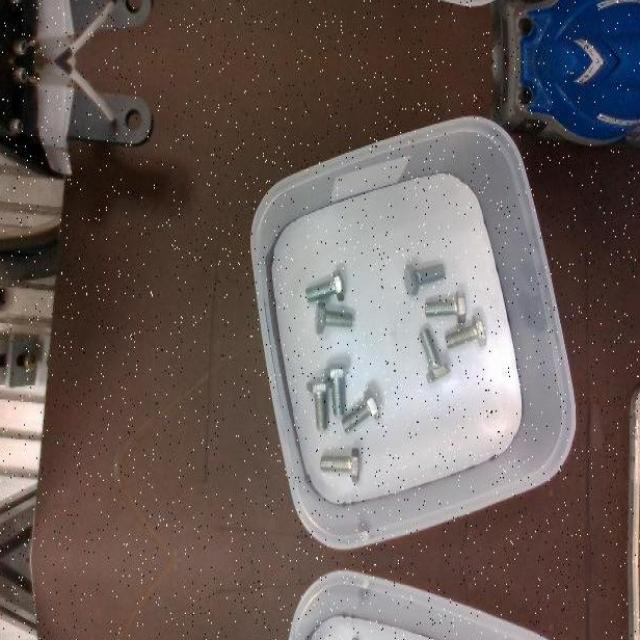screw: (341, 388, 381, 433), (419, 328, 451, 382), (320, 446, 361, 482), (445, 314, 487, 349), (305, 268, 344, 303), (424, 290, 465, 323), (403, 263, 446, 294), (323, 364, 348, 416), (306, 377, 330, 430), (315, 302, 353, 334)
